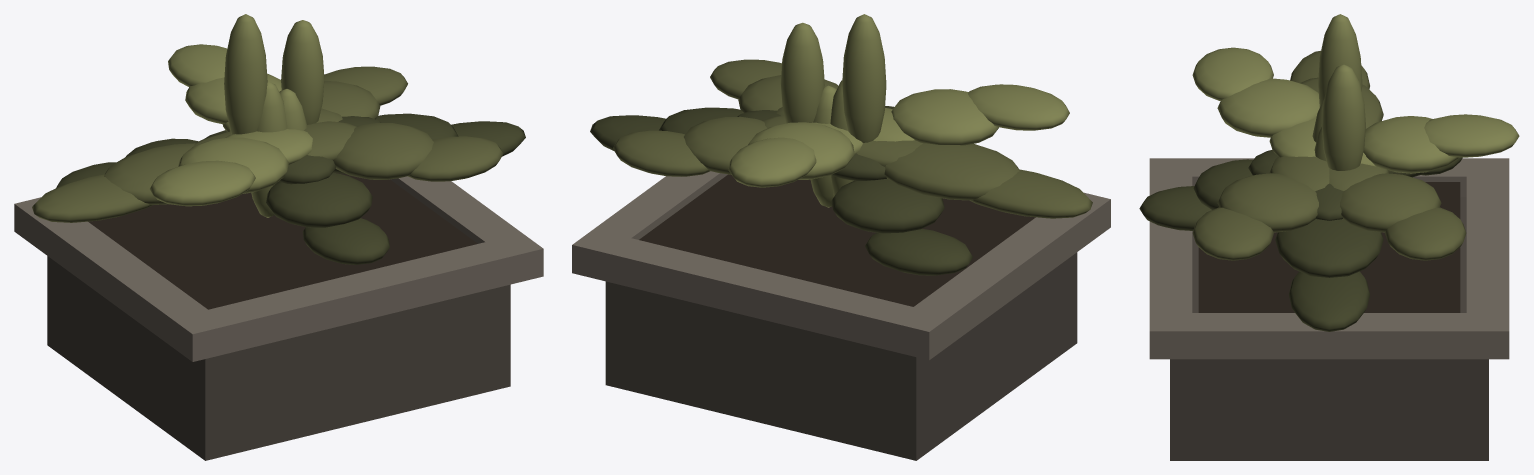
Rendered from CMU3DPottedPlant14.glb.
3 renders of one model, left to right at view 1: azimuth 30°, elevation 25°; view 2: azimuth 150°, elevation 25°; view 3: azimuth 270°, elevation 25°, orthographic.
Parts seen in each view (by area): view 1: tapered leaf blade (×22), square pot base, recessed soil, side rim (×2), front and back rim; view 2: tapered leaf blade (×21), square pot base, recessed soil, side rim (×2), front and back rim; view 3: tapered leaf blade (×21), square pot base, side rim (×2), recessed soil, front and back rim (×2).
Part boxes in pixels (<box>): tapered leaf blade (×22): <box>32,14,525,264</box>; square pot base: <box>47,256,510,460</box>; recessed soil: <box>88,173,477,309</box>; side rim (×2): <box>14,176,543,361</box>; front and back rim: <box>208,242,506,352</box>; tapered leaf blade (×21): <box>590,14,1092,275</box>; square pot base: <box>605,252,1077,460</box>; recessed soil: <box>639,174,1035,306</box>; side rim (×2): <box>572,171,1110,360</box>; front and back rim: <box>609,238,912,350</box>; tapered leaf blade (×21): <box>1139,14,1519,331</box>; square pot base: <box>1170,197,1488,460</box>; side rim (×2): <box>1149,158,1509,359</box>; recessed soil: <box>1198,182,1460,312</box>; front and back rim (×2): <box>1149,176,1509,312</box>.
Size of the model in its own units: 0.5939 by 0.4115 by 0.3959.
